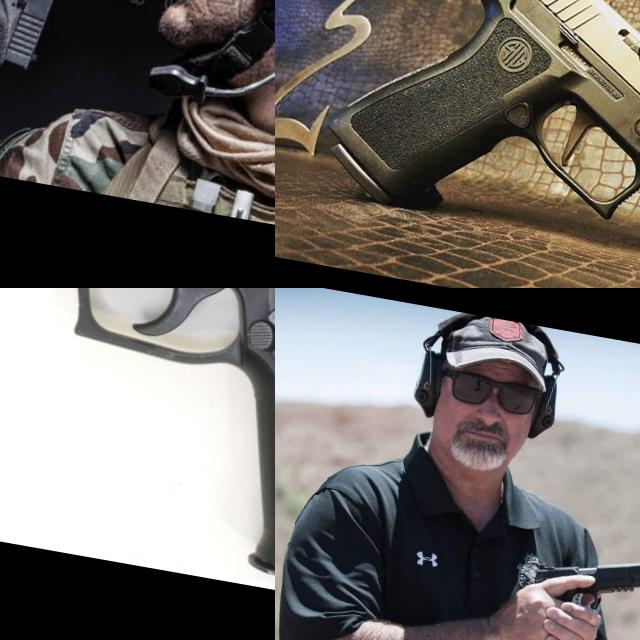handgun: (307, 0, 640, 288), (0, 288, 275, 608), (0, 0, 119, 146), (527, 534, 640, 623)
